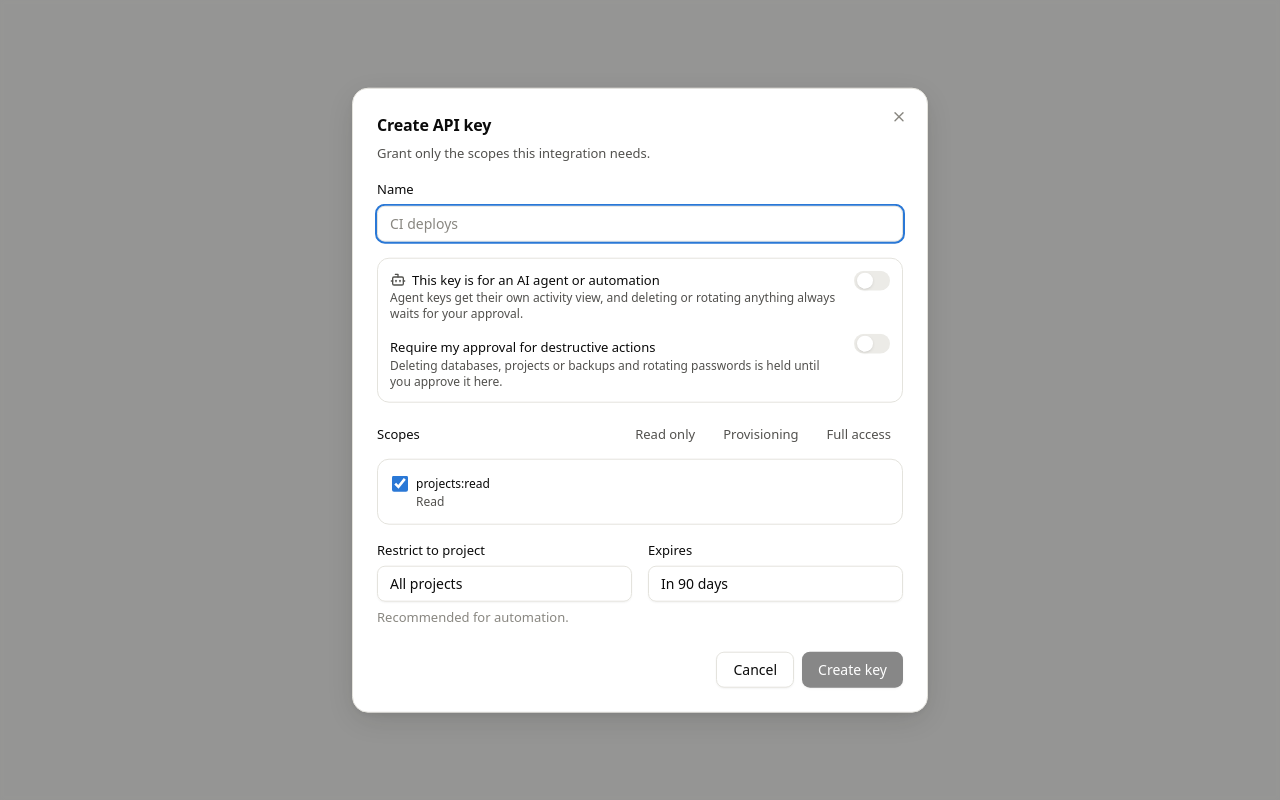
Scenario: CreateKeyDialog › standard keys can opt in
Click the switch named "Require approval".
click(872, 344)  # box [854,334,890,354]
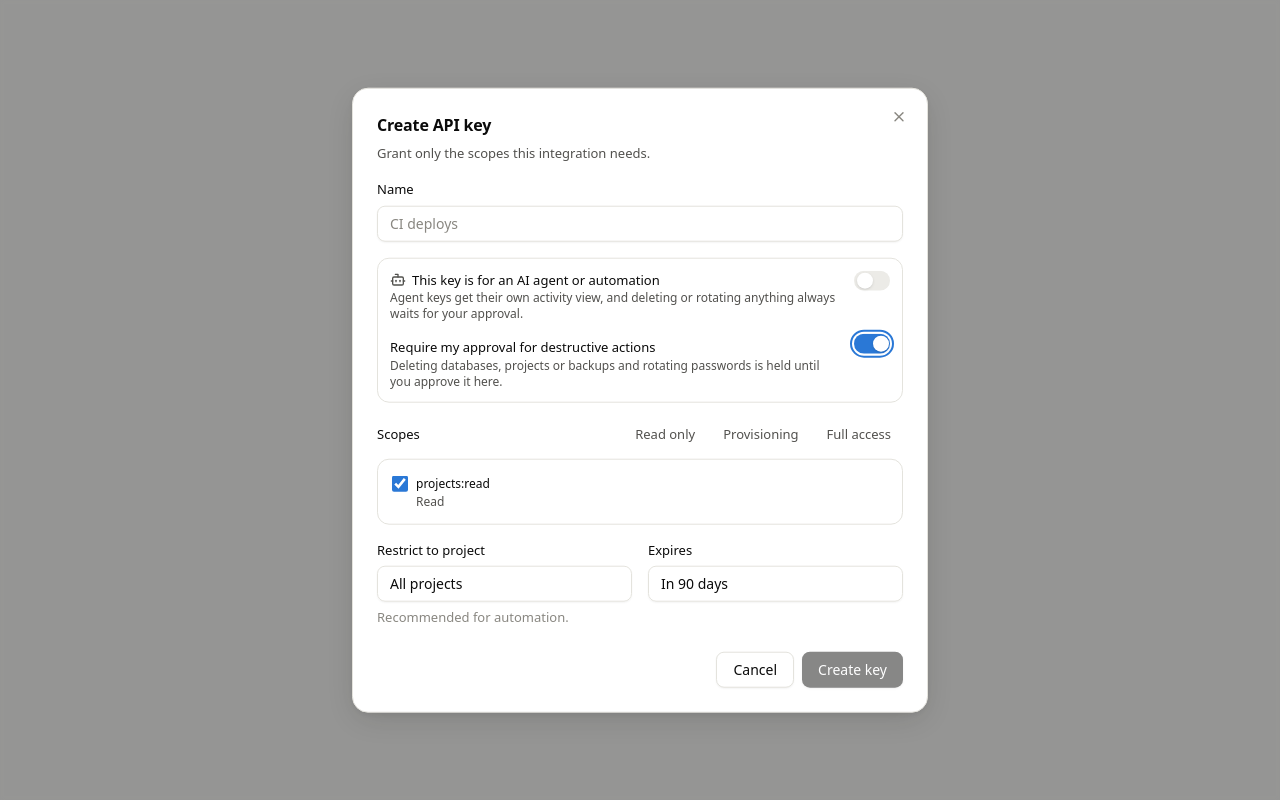
expect the switch named "Require approval" is checked: met, box [854,334,890,354]
